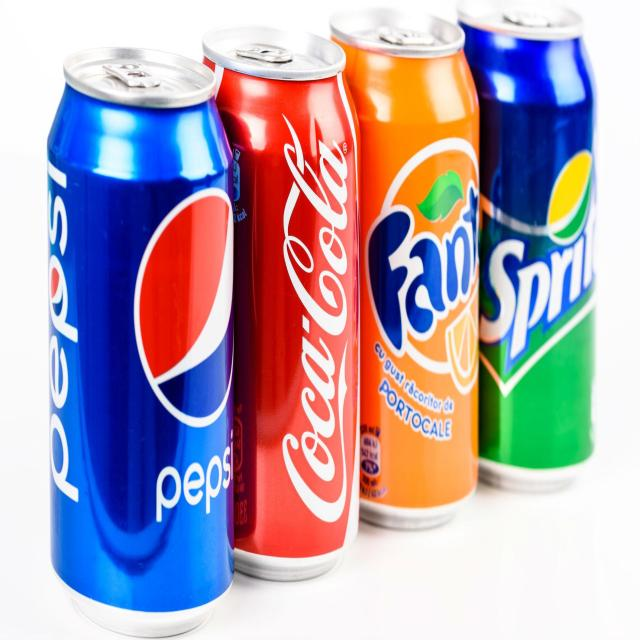can: (47, 51, 234, 625), (202, 24, 360, 576), (329, 13, 478, 534), (465, 6, 596, 491), (502, 4, 571, 37)
pop tab: (96, 51, 160, 95), (234, 33, 297, 73), (380, 19, 436, 47)
